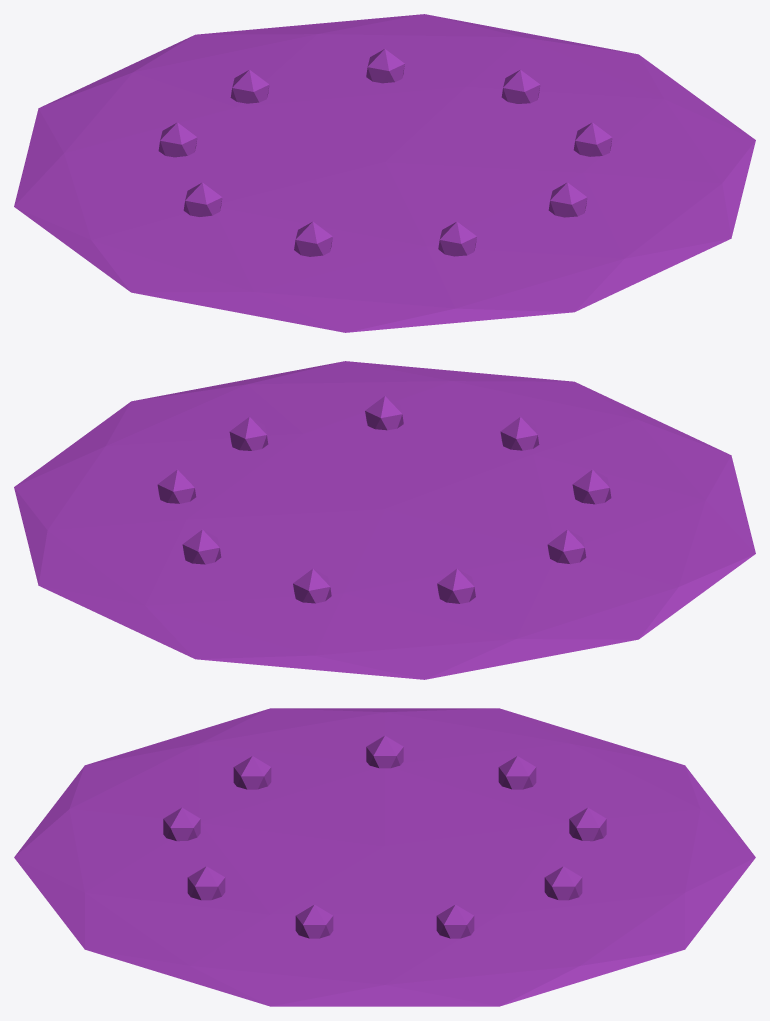
The model's file is PoisonPool.fbx.
The picture shows the model from 3 angles, top to bottom: view 1: azimuth 30°, elevation 25°; view 2: azimuth 150°, elevation 25°; view 3: azimuth 270°, elevation 25°; orthographic projection. The views are drawn at different scales.
Parts seen in each view (by area): view 1: Puddle, Bubble1, Bubble3, Bubble2, Bubble8, Bubble6, Bubble4, Bubble5, Bubble0, Bubble7; view 2: Puddle, Bubble8, Bubble6, Bubble7, Bubble1, Bubble3, Bubble4, Bubble5, Bubble0, Bubble2; view 3: Puddle, Bubble3, Bubble6, Bubble4, Bubble5, Bubble1, Bubble8, Bubble2, Bubble7, Bubble0.
Boxes of the visible parts, box(x1,y1,x2,y2) form: Puddle: box(14, 14, 755, 332); Bubble1: box(294, 221, 332, 256); Bubble3: box(548, 182, 587, 217); Bubble2: box(438, 222, 476, 256); Bubble8: box(158, 122, 197, 157); Bubble6: box(366, 49, 404, 83); Bubble4: box(573, 122, 612, 156); Bubble5: box(501, 69, 540, 103); Bubble0: box(183, 182, 222, 216); Bubble7: box(230, 70, 269, 103); Puddle: box(14, 361, 755, 679); Bubble8: box(437, 568, 475, 603); Bubble6: box(182, 529, 221, 564); Bubble7: box(293, 569, 331, 603); Bubble1: box(572, 469, 611, 504); Bubble3: box(365, 396, 403, 430); Bubble4: box(229, 416, 268, 450); Bubble5: box(157, 469, 196, 503); Bubble0: box(547, 529, 586, 563); Bubble2: box(500, 417, 539, 450); Puddle: box(14, 708, 755, 1006); Bubble3: box(187, 866, 225, 900); Bubble6: box(544, 866, 582, 900); Bubble4: box(295, 904, 333, 938); Bubble5: box(436, 904, 474, 938); Bubble1: box(233, 756, 271, 789); Bubble8: box(498, 756, 536, 789); Bubble2: box(163, 807, 200, 841); Bubble7: box(569, 807, 606, 841); Bubble0: box(366, 735, 403, 768).
Bounding box in the file's own units: 2.57 × 0.2 × 2.7.
